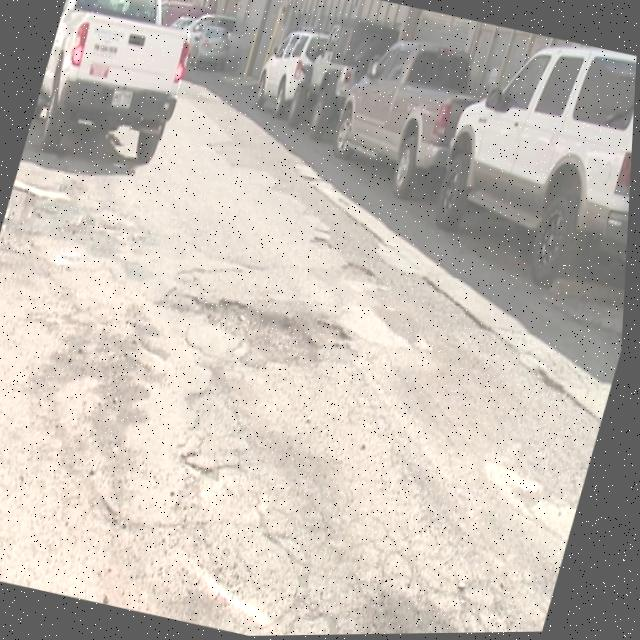Pothole: (192, 284, 352, 384), (2, 170, 60, 241), (341, 249, 393, 297), (306, 232, 340, 256)
